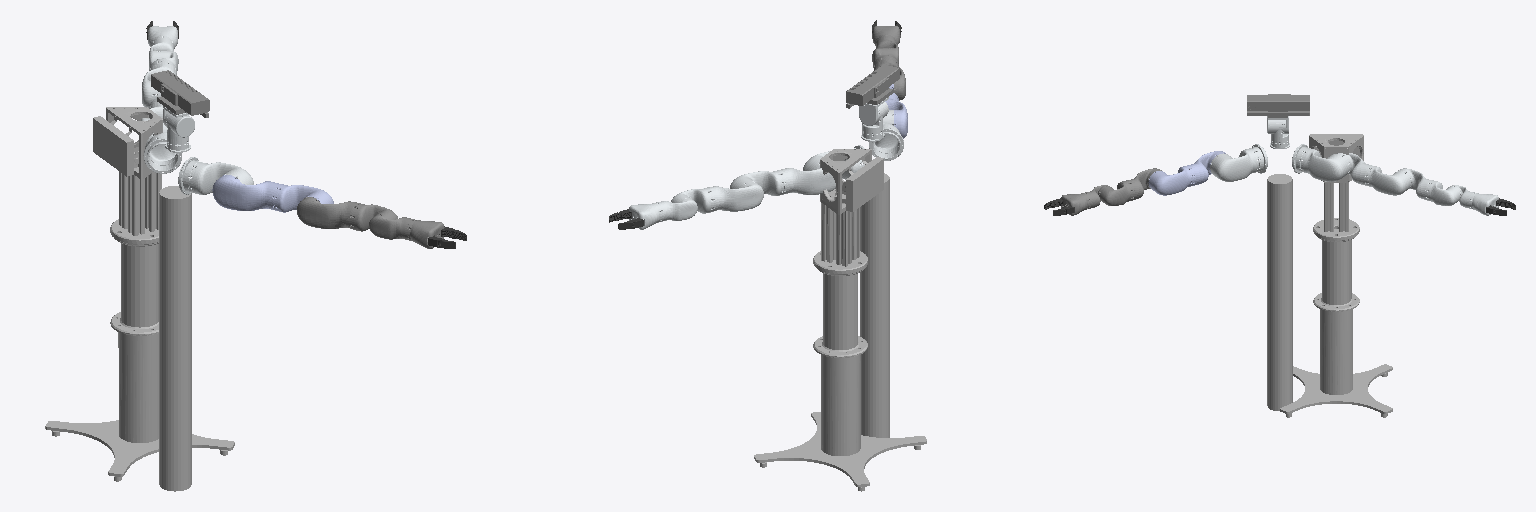
--- Render facts (derived) ---
The picture shows the robot from 3 angles, left to right: view 1: azimuth 30°, elevation 25°; view 2: azimuth 150°, elevation 25°; view 3: azimuth 270°, elevation 25°; orthographic projection.
Robot: mrp2a — 28 links, 27 joints (20 revolute, 7 fixed); root link base_dummy; default pose: every joint at zero.
Visible links, largest first — view 1: base_link, base_dummy, R_Link2, Camera_Link, R_Link4, R_Link1, R_Link3, R_Link6, H_Link1, R_Link5, R_Link7, L_Link4 (+1 smaller); view 2: base_link, base_dummy, Camera_Link, L_Link2, L_Link4, L_Link3, L_Link6, L_Link5, L_Link7; view 3: base_link, base_dummy, Camera_Link, L_Link1, R_Link1, R_Link3, L_Link3, L_Link5, R_Link5, R_Link2.
Boxes of the visible links, box(x1,y1,x2,y2) form: base_link: box(45, 107, 234, 481); base_dummy: box(159, 186, 191, 491); R_Link2: box(212, 175, 283, 210); Camera_Link: box(151, 70, 209, 117); R_Link4: box(297, 197, 360, 229); R_Link1: box(189, 162, 253, 194); R_Link3: box(274, 185, 333, 212); R_Link6: box(369, 214, 414, 240); H_Link1: box(166, 114, 194, 144); R_Link5: box(352, 204, 397, 231); R_Link7: box(408, 220, 444, 248); L_Link4: box(142, 61, 176, 107); base_link: box(754, 149, 926, 491); base_dummy: box(860, 173, 889, 437); Camera_Link: box(846, 64, 899, 108); L_Link2: box(777, 164, 836, 194); L_Link4: box(707, 182, 763, 212); L_Link3: box(730, 171, 783, 195); L_Link6: box(656, 198, 697, 221); L_Link5: box(671, 188, 713, 213); L_Link7: box(629, 203, 661, 229); base_link: box(1280, 134, 1392, 417); base_dummy: box(1267, 174, 1292, 410); Camera_Link: box(1247, 94, 1309, 117); L_Link1: box(1301, 148, 1349, 181); R_Link1: box(1210, 148, 1258, 181); R_Link3: box(1148, 166, 1192, 195); L_Link3: box(1367, 166, 1410, 195); L_Link5: box(1427, 180, 1460, 205); R_Link5: box(1099, 180, 1132, 205); R_Link2: box(1187, 151, 1225, 185).
Size in the robot's own frame: 0.7408 by 1.88 by 1.36 metres.
Meshes: 25 distinct files referenced, 25 mesh visuals loaded (25 binary STL).

URDF robot description (mrp2a):
<robot
  name="mrp2a">
  <link 
    name="base_dummy">
    <visual>
      <origin
        xyz="0.4 0 0.8"
        rpy="0 0 0" />
      <geometry>
        <cylinder length="1" radius="0.05" />
      </geometry>
      <material
        name="">
        <color
          rgba="0.752941176470588 0.752941176470588 0.752941176470588 1" />
      </material>
    </visual>
    <collision>
      <origin
        xyz="0.4 0 0.8"
        rpy="0 0 0" />
      <geometry>
          <cylinder length="1" radius="0.08" />
      </geometry>
    </collision>
  </link>

  <joint
    name="dummy_fixed"
    type="fixed">
    <origin
      xyz="0 0 0"
      rpy="0 0 0" />
    <parent
      link="base_dummy" />
    <child
      link="base_link" />
    <axis
      xyz="0 0 0" />
  </joint>

  <link
    name="base_link">
    <inertial>
      <origin
        xyz="0.0116056401155761 7.62263465240557E-06 0.417492200672716"
        rpy="0 0 0" />
      <mass
        value="503.167445829256" />
      <inertia
        ixx="39.5687611689678"
        ixy="-0.00180154710849991"
        ixz="-3.1866125593707"
        iyy="92.0490260945021"
        iyz="-0.000604913937372381"
        izz="76.9358059123522" />
    </inertial>
    <visual>
      <origin
        xyz="0 0 0"
        rpy="0 0 0" />
      <geometry>
        <mesh
          filename="package://mrp2a_description/meshes/base_link.STL" />
      </geometry>
      <material
        name="">
        <color
          rgba="0.752941176470588 0.752941176470588 0.752941176470588 1" />
      </material>
    </visual>
    <collision>
      <origin
        xyz="0 0 0"
        rpy="0 0 0" />
      <geometry>
        <mesh
          filename="package://mrp2a_description/meshes/base_link.STL" />
      </geometry>
    </collision>
  </link>
  <link
    name="L_Link0">
    <inertial>
      <origin
        xyz="-5.00532948422006E-11 -2.57285631688475E-09 0.00789253736797313"
        rpy="0 0 0" />
      <mass
        value="0.223472954734355" />
      <inertia
        ixx="0.000300898395929938"
        ixy="3.61000742934634E-12"
        ixz="6.57618311567675E-12"
        iyy="0.000300898393145345"
        iyz="5.92615943839112E-12"
        izz="0.000558427149998242" />
    </inertial>
    <visual>
      <origin
        xyz="0 0 0"
        rpy="0 0 0" />
      <geometry>
        <mesh
          filename="package://mrp2a_description/meshes/L_Link0.STL" />
      </geometry>
      <material
        name="">
        <color
          rgba="0.898039215686275 0.917647058823529 0.929411764705882 1" />
      </material>
    </visual>
    <collision>
      <origin
        xyz="0 0 0"
        rpy="0 0 0" />
      <geometry>
        <mesh
          filename="package://mrp2a_description/meshes/L_Link0.STL" />
      </geometry>
    </collision>
  </link>
  <joint
    name="L_fixed"
    type="fixed">
    <origin
      xyz="0.401541651245978 0.0802868417743912 1.39027148358762"
      rpy="1.0471975511966 1.5707963267949 2.0943951023931954923084289221863" />
    <parent
      link="base_link" />
    <child
      link="L_Link0" />
    <axis
      xyz="0 0 0" />
  </joint>
  <link
    name="L_Link1">
    <inertial>
      <origin
        xyz="-5.61077310687885E-05 -0.0142951350447805 0.0860645138410713"
        rpy="0 0 0" />
      <mass
        value="0.479797701810757" />
      <inertia
        ixx="0.00187210715339315"
        ixy="8.48856757722259E-08"
        ixz="7.55666114448996E-07"
        iyy="0.00195379452614282"
        iyz="0.000126977076625014"
        izz="0.000895037663038882" />
    </inertial>
    <visual>
      <origin
        xyz="0 0 0"
        rpy="0 0 0" />
      <geometry>
        <mesh
          filename="package://mrp2a_description/meshes/L_Link1.STL" />
      </geometry>
      <material
        name="">
        <color
          rgba="0.898039215686275 0.917647058823529 0.929411764705882 1" />
      </material>
    </visual>
    <collision>
      <origin
        xyz="0 0 0"
        rpy="0 0 0" />
      <geometry>
        <mesh
          filename="package://mrp2a_description/meshes/L_Link1.STL" />
      </geometry>
    </collision>
  </link>
  <joint
    name="L_Joint1"
    type="revolute">
    <origin
      xyz="0 0 0.0306"
      rpy="-1.7271E-28 1.5777E-30 3.1554E-30" />
    <parent
      link="L_Link0" />
    <child
      link="L_Link1" />
    <axis
      xyz="0 0 1" />
    <limit
      lower="-3.05"
      upper="3.05"
      effort="0"
      velocity="0" />
  </joint>
  <link
    name="L_Link2">
    <inertial>
      <origin
        xyz="-4.22647804732001E-06 -0.0686708494012157 0.0295427733613017"
        rpy="0 0 0" />
      <mass
        value="0.446126751687594" />
      <inertia
        ixx="0.0021734105386687"
        ixy="2.61059381798853E-07"
        ixz="1.55145893440584E-07"
        iyy="0.000851447231000872"
        iyz="-0.000558302793053726"
        izz="0.00206962716215443" />
    </inertial>
    <visual>
      <origin
        xyz="0 0 0"
        rpy="0 0 0" />
      <geometry>
        <mesh
          filename="package://mrp2a_description/meshes/L_Link2.STL" />
      </geometry>
      <material
        name="">
        <color
          rgba="0.898039215686275 0.917647058823529 0.929411764705882 1" />
      </material>
    </visual>
    <collision>
      <origin
        xyz="0 0 0"
        rpy="0 0 0" />
      <geometry>
        <mesh
          filename="package://mrp2a_description/meshes/L_Link2.STL" />
      </geometry>
    </collision>
  </link>
  <joint
    name="L_Joint2"
    type="revolute">
    <origin
      xyz="0 0 0.1339"
      rpy="-1.5708 -6.8784E-15 -1.1914E-14" />
    <parent
      link="L_Link1" />
    <child
      link="L_Link2" />
    <axis
      xyz="0 0 1" />
    <limit
      lower="-2.09"
      upper="2.09"
      effort="0"
      velocity="0" />
  </joint>
  <link
    name="L_Link3">
    <inertial>
      <origin
        xyz="-1.75115454241759E-05 -0.0148352799501194 0.082413004478926"
        rpy="0 0 0" />
      <mass
        value="0.369753275800124" />
      <inertia
        ixx="0.00123779807162089"
        ixy="1.74416777990343E-07"
        ixz="4.028833173977E-07"
        iyy="0.00125673245406666"
        iyz="6.76623645400115E-05"
        izz="0.000517699412118933" />
    </inertial>
    <visual>
      <origin
        xyz="0 0 0"
        rpy="0 0 0" />
      <geometry>
        <mesh
          filename="package://mrp2a_description/meshes/L_Link3.STL" />
      </geometry>
      <material
        name="">
        <color
          rgba="0.898039215686275 0.917647058823529 0.929411764705882 1" />
      </material>
    </visual>
    <collision>
      <origin
        xyz="0 0 0"
        rpy="0 0 0" />
      <geometry>
        <mesh
          filename="package://mrp2a_description/meshes/L_Link3.STL" />
      </geometry>
    </collision>
  </link>
  <joint
    name="L_Joint3"
    type="revolute">
    <origin
      xyz="0 -0.1659 0"
      rpy="1.5708 -1.3171E-14 7.6043E-15" />
    <parent
      link="L_Link2" />
    <child
      link="L_Link3" />
    <axis
      xyz="0 0 1" />
    <limit
      lower="-3.05"
      upper="3.05"
      effort="0"
      velocity="0" />
  </joint>
  <link
    name="L_Link4">
    <inertial>
      <origin
        xyz="-4.19589093851869E-05 -0.0676706530569938 0.0261728375420073"
        rpy="0 0 0" />
      <mass
        value="0.299022063834013" />
      <inertia
        ixx="0.0012651326585819"
        ixy="6.76171354607222E-07"
        ixz="1.79150192674022E-07"
        iyy="0.000483979249770282"
        iyz="-0.00032793976986134"
        izz="0.00121028828173017" />
    </inertial>
    <visual>
      <origin
        xyz="0 0 0"
        rpy="0 0 0" />
      <geometry>
        <mesh
          filename="package://mrp2a_description/meshes/L_Link4.STL" />
      </geometry>
      <material
        name="">
        <color
          rgba="0.898039215686275 0.917647058823529 0.929411764705882 1" />
      </material>
    </visual>
    <collision>
      <origin
        xyz="0 0 0"
        rpy="0 0 0" />
      <geometry>
        <mesh
          filename="package://mrp2a_description/meshes/L_Link4.STL" />
      </geometry>
    </collision>
  </link>
  <joint
    name="L_Joint4"
    type="revolute">
    <origin
      xyz="0 0 0.1261"
      rpy="-1.5708 -7.9726E-15 -1.3809E-14" />
    <parent
      link="L_Link3" />
    <child
      link="L_Link4" />
    <axis
      xyz="0 0 1" />
    <limit
      lower="-2.09"
      upper="2.09"
      effort="0"
      velocity="0" />
  </joint>
  <link
    name="L_Link5">
    <inertial>
      <origin
        xyz="-2.79984826012658E-05 -0.0111127966196358 0.0529842469650915"
        rpy="0 0 0" />
      <mass
        value="0.210105102195468" />
      <inertia
        ixx="0.000430632583535674"
        ixy="-1.37633239033165E-07"
        ixz="-9.75907473549485E-08"
        iyy="0.000426925124477024"
        iyz="5.35966809682189E-05"
        izz="0.000253639705799832" />
    </inertial>
    <visual>
      <origin
        xyz="0 0 0"
        rpy="0 0 0" />
      <geometry>
        <mesh
          filename="package://mrp2a_description/meshes/L_Link5.STL" />
      </geometry>
      <material
        name="">
        <color
          rgba="0.898039215686275 0.917647058823529 0.929411764705882 1" />
      </material>
    </visual>
    <collision>
      <origin
        xyz="0 0 0"
        rpy="0 0 0" />
      <geometry>
        <mesh
          filename="package://mrp2a_description/meshes/L_Link5.STL" />
      </geometry>
    </collision>
  </link>
  <joint
    name="L_Joint5"
    type="revolute">
    <origin
      xyz="0 -0.1509 0"
      rpy="1.5708 -1.2856E-14 7.4225E-15" />
    <parent
      link="L_Link4" />
    <child
      link="L_Link5" />
    <axis
      xyz="0 0 1" />
    <limit
      lower="-3.05"
      upper="3.05"
      effort="0"
      velocity="0" />
  </joint>
  <link
    name="L_Link6">
    <inertial>
      <origin
        xyz="6.61440654838863E-05 -0.0464092033770266 0.0142998926979978"
        rpy="0 0 0" />
      <mass
        value="0.152365938496062" />
      <inertia
        ixx="0.000333790388227261"
        ixy="3.85008350227527E-07"
        ixz="2.41753193395084E-07"
        iyy="0.000148214197619039"
        iyz="-7.54134369610282E-05"
        izz="0.000326788645546282" />
    </inertial>
    <visual>
      <origin
        xyz="0 0 0"
        rpy="0 0 0" />
      <geometry>
        <mesh
          filename="package://mrp2a_description/meshes/L_Link6.STL" />
      </geometry>
      <material
        name="">
        <color
          rgba="0.898039215686275 0.917647058823529 0.929411764705882 1" />
      </material>
    </visual>
    <collision>
      <origin
        xyz="0 0 0"
        rpy="0 0 0" />
      <geometry>
        <mesh
          filename="package://mrp2a_description/meshes/L_Link6.STL" />
      </geometry>
    </collision>
  </link>
  <joint
    name="L_Joint6"
    type="revolute">
    <origin
      xyz="0 0 0.0911"
      rpy="-1.5708 -7.2318E-15 -1.2526E-14" />
    <parent
      link="L_Link5" />
    <child
      link="L_Link6" />
    <axis
      xyz="0 0 1" />
    <limit
      lower="-2.09"
      upper="2.09"
      effort="0"
      velocity="0" />
  </joint>
  <link
    name="L_Link7">
    <inertial>
      <origin
        xyz="-3.35699649318677E-05 -2.8130055156339E-06 0.0435230606728521"
        rpy="0 0 0" />
      <mass
        value="0.189866448136334" />
      <inertia
        ixx="0.000273665673510358"
        ixy="2.19757511429631E-08"
        ixz="4.14753854628336E-08"
        iyy="0.000241558936433134"
        iyz="1.55856396916136E-08"
        izz="0.000241433839895286" />
    </inertial>
    <visual>
      <origin
        xyz="0 0 0"
        rpy="0 0 0" />
      <geometry>
        <mesh
          filename="package://mrp2a_description/meshes/L_Link7.STL" />
      </geometry>
      <material
        name="">
        <color
          rgba="0.898039215686275 0.917647058823529 0.929411764705882 1" />
      </material>
    </visual>
    <collision>
      <origin
        xyz="0 0 0"
        rpy="0 0 0" />
      <geometry>
        <mesh
          filename="package://mrp2a_description/meshes/L_Link7.STL" />
      </geometry>
    </collision>
  </link>
  <joint
    name="L_Joint7"
    type="revolute">
    <origin
      xyz="0 -0.1069 0"
      rpy="1.5708 -1.2729E-14 7.3492E-15" />
    <parent
      link="L_Link6" />
    <child
      link="L_Link7" />
    <axis
      xyz="0 0 1" />
    <limit
      lower="-3.05"
      upper="3.05"
      effort="0"
      velocity="0" />
  </joint>
  <link
    name="L_left_finger">
    <inertial>
      <origin
        xyz="0.0344260864003008 0.010909869016838 1.2293463802493E-08"
        rpy="0 0 0" />
      <mass
        value="0.0476700444491017" />
      <inertia
        ixx="5.21235147485969E-06"
        ixy="1.63723669343646E-07"
        ixz="1.90271401200849E-11"
        iyy="3.02971293146477E-05"
        iyz="-6.15604627115701E-12"
        izz="2.85611105712804E-05" />
    </inertial>
    <visual>
      <origin
        xyz="0 0 0"
        rpy="0 0 0" />
      <geometry>
        <mesh
          filename="package://mrp2a_description/meshes/L_left_finger.STL" />
      </geometry>
      <material
        name="">
        <color
          rgba="0.298039215686275 0.298039215686275 0.298039215686275 1" />
      </material>
    </visual>
    <collision>
      <origin
        xyz="0 0 0"
        rpy="0 0 0" />
      <geometry>
        <mesh
          filename="package://mrp2a_description/meshes/L_left_finger.STL" />
      </geometry>
    </collision>
  </link>
  <joint
    name="L_left_joint"
    type="revolute">
    <origin
      xyz="0 0.028 0.0806"
      rpy="-1.5708 -1.5653 1.5708" />
    <parent
      link="L_Link7" />
    <child
      link="L_left_finger" />
    <axis
      xyz="0 0 1" />
    <limit
      lower="-1.57"
      upper="1.57"
      effort="0"
      velocity="0" />
  </joint>
  <link
    name="L_right_finger">
    <inertial>
      <origin
        xyz="0.0343738108391702 -0.0114248408797415 -1.15433491654215E-08"
        rpy="0 0 0" />
      <mass
        value="0.0476700572031979" />
      <inertia
        ixx="5.1384484209657E-06"
        ixy="6.56366148953293E-07"
        ixz="-2.5753435705972E-11"
        iyy="3.02664921090384E-05"
        iyz="-5.71395212742962E-12"
        izz="2.84565694707725E-05" />
    </inertial>
    <visual>
      <origin
        xyz="0 0 0"
        rpy="0 0 0" />
      <geometry>
        <mesh
          filename="package://mrp2a_description/meshes/L_right_finger.STL" />
      </geometry>
      <material
        name="">
        <color
          rgba="0.298039215686275 0.298039215686275 0.298039215686275 1" />
      </material>
    </visual>
    <collision>
      <origin
        xyz="0 0 0"
        rpy="0 0 0" />
      <geometry>
        <mesh
          filename="package://mrp2a_description/meshes/L_right_finger.STL" />
      </geometry>
    </collision>
  </link>
  <joint
    name="L_right_joint"
    type="revolute">
    <origin
      xyz="0 -0.028 0.0806"
      rpy="-1.5708 -1.5599 1.5708" />
    <parent
      link="L_Link7" />
    <child
      link="L_right_finger" />
    <axis
      xyz="0 0 1" />
    <limit
      lower="-1.57"
      upper="1.57"
      effort="0"
      velocity="0" />
  </joint>
  <link
    name="L_ee" />
  <joint
    name="L_end_fixed"
    type="fixed">
    <origin
      xyz="0 0 0.165"
      rpy="-1.82997712798868E-28 0 -3.15544362088405E-30" />
    <parent
      link="L_Link7" />
    <child
      link="L_ee" />
    <axis
      xyz="0 0 0" />
  </joint>
  <link
    name="R_Link0">
    <inertial>
      <origin
        xyz="-5.00535168868055E-11 -2.57285659444051E-09 0.00789253736797302"
        rpy="0 0 0" />
      <mass
        value="0.223472954734356" />
      <inertia
        ixx="0.000300898395929939"
        ixy="3.6100072822455E-12"
        ixz="6.57618405467455E-12"
        iyy="0.000300898393145346"
        iyz="5.9261598856246E-12"
        izz="0.000558427149998244" />
    </inertial>
    <visual>
      <origin
        xyz="0 0 0"
        rpy="0 0 0" />
      <geometry>
        <mesh
          filename="package://mrp2a_description/meshes/R_Link0.STL" />
      </geometry>
      <material
        name="">
        <color
          rgba="0.898039215686275 0.917647058823529 0.929411764705882 1" />
      </material>
    </visual>
    <collision>
      <origin
        xyz="0 0 0"
        rpy="0 0 0" />
      <geometry>
        <mesh
          filename="package://mrp2a_description/meshes/R_Link0.STL" />
      </geometry>
    </collision>
  </link>
  <joint
    name="R_fixed"
    type="fixed">
    <origin
      xyz="0.40154 -0.080287 1.3903"
      rpy="1.0472 -1.5708 1.0471975511965977461542144610932" />
    <parent
      link="base_link" />
    <child
      link="R_Link0" />
    <axis
      xyz="0 0 0" />
  </joint>
  <link
    name="R_Link1">
    <inertial>
      <origin
        xyz="-5.61072148668185E-05 -0.0142951353992923 0.0861636477119259"
        rpy="0 0 0" />
      <mass
        value="0.479797742374358" />
      <inertia
        ixx="0.00187210719283673"
        ixy="8.49019868743665E-08"
        ixz="7.55626229620109E-07"
        iyy="0.00195379460117118"
        iyz="0.000126977101176485"
        izz="0.000895037720805486" />
    </inertial>
    <visual>
      <origin
        xyz="0 0 0"
        rpy="0 0 0" />
      <geometry>
        <mesh
          filename="package://mrp2a_description/meshes/R_Link1.STL" />
      </geometry>
      <material
        name="">
        <color
          rgba="0.898039215686275 0.917647058823529 0.929411764705882 1" />
      </material>
    </visual>
    <collision>
      <origin
        xyz="0 0 0"
        rpy="0 0 0" />
      <geometry>
        <mesh
          filename="package://mrp2a_description/meshes/R_Link1.STL" />
      </geometry>
    </collision>
  </link>
  <joint
    name="R_Joint1"
    type="revolute">
    <origin
      xyz="0 0 0.030501"
      rpy="-7.3566E-28 -3.1554E-30 3.9782E-14" />
    <parent
      link="R_Link0" />
    <child
      link="R_Link1" />
    <axis
      xyz="0 0 1" />
    <limit
      lower="-3.05"
      upper="3.05"
      effort="0"
      velocity="0" />
  </joint>
  <link
    name="R_Link2">
    <inertial>
      <origin
        xyz="-4.23559618156766E-06 -0.0686708524722193 0.0295427694562012"
        rpy="0 0 0" />
      <mass
        value="0.446126638336131" />
      <inertia
        ixx="0.00217341040951626"
        ixy="2.61085934763301E-07"
        ixz="1.55189970462644E-07"
        iyy="0.00085144701302756"
        iyz="-0.000558302708861282"
        izz="0.00206962697259797" />
    </inertial>
    <visual>
      <origin
        xyz="0 0 0"
        rpy="0 0 0" />
      <geometry>
        <mesh
          filename="package://mrp2a_description/meshes/R_Link2.STL" />
      </geometry>
      <material
        name="">
        <color
          rgba="0.792156862745098 0.819607843137255 0.933333333333333 1" />
      </material>
    </visual>
    <collision>
      <origin
        xyz="0 0 0"
        rpy="0 0 0" />
      <geometry>
        <mesh
          filename="package://mrp2a_description/meshes/R_Link2.STL" />
      </geometry>
    </collision>
  </link>
  <joint
    name="R_Joint2"
    type="revolute">
    <origin
      xyz="0 0 0.134"
      rpy="-1.5708 -2.2968E-14 -3.9782E-14" />
    <parent
      link="R_Link1" />
    <child
      link="R_Link2" />
    <axis
      xyz="0 0 1" />
    <limit
      lower="-2.09"
      upper="2.09"
      effort="0"
      velocity="0" />
  </joint>
  <link
    name="R_Link3">
    <inertial>
      <origin
        xyz="-1.74956927427861E-05 -0.0148360675202772 0.0824136347131282"
        rpy="0 0 0" />
      <mass
        value="0.369749907628908" />
      <inertia
        ixx="0.00123777240608711"
        ixy="1.77510255388424E-07"
        ixz="4.01191203097331E-07"
        iyy="0.00125672179257768"
        iyz="6.76484823504997E-05"
        izz="0.000517689455158085" />
    </inertial>
    <visual>
      <origin
        xyz="0 0 0"
        rpy="0 0 0" />
      <geometry>
        <mesh
          filename="package://mrp2a_description/meshes/R_Link3.STL" />
      </geometry>
      <material
        name="">
        <color
          rgba="0.792156862745098 0.819607843137255 0.933333333333333 1" />
      </material>
    </visual>
    <collision>
      <origin
        xyz="0 0 0"
        rpy="0 0 0" />
      <geometry>
        <mesh
          filename="package://mrp2a_description/meshes/R_Link3.STL" />
      </geometry>
    </collision>
  </link>
  <joint
    name="R_Joint3"
    type="revolute">
    <origin
      xyz="0 -0.1659 0"
      rpy="1.5708 0 2.2787E-14" />
    <parent
      link="R_Link2" />
    <child
      link="R_Link3" />
    <axis
      xyz="0 0 1" />
    <limit
      lower="-3.05"
      upper="3.05"
      effort="0"
      velocity="0" />
  </joint>
  <link
    name="R_Link4">
    <inertial>
      <origin
        xyz="-4.03927185324005E-05 -0.0676666958651468 0.026172576483824"
        rpy="0 0 0" />
      <mass
        value="0.298987763986855" />
      <inertia
        ixx="0.00126508843566398"
        ixy="6.95308562925535E-07"
        ixz="1.79322052937203E-07"
        iyy="0.000483969302599261"
        iyz="-0.000327943370852257"
        izz="0.00121023700357796" />
    </inertial>
    <visual>
      <origin
        xyz="0 0 0"
        rpy="0 0 0" />
      <geometry>
        <mesh
          filename="package://mrp2a_description/meshes/R_Link4.STL" />
      </geometry>
      <material
        name="">
        <color
          rgba="0.6 0.6 0.6 1" />
      </material>
    </visual>
    <collision>
      <origin
        xyz="0 0 0"
        rpy="0 0 0" />
      <geometry>
        <mesh
          filename="package://mrp2a_description/meshes/R_Link4.STL" />
      </geometry>
    </collision>
  </link>
  <joint
    name="R_Joint4"
    type="revolute">
    <origin
      xyz="0 0 0.1261"
      rpy="-1.5708 -2.2739E-14 8.2815E-17" />
    <parent
      link="R_Link3" />
    <child
      link="R_Link4" />
    <axis
      xyz="0 0 1" />
    <limit
      lower="-2.09"
      upper="2.09"
      effort="0"
      velocity="0" />
  </joint>
  <link
    name="R_Link5">
    <inertial>
      <origin
        xyz="-2.80211401295638E-05 -0.0111127907440283 0.05298419196174"
        rpy="0 0 0" />
      <mass
        value="0.210105699117219" />
      <inertia
        ixx="0.000430632859994774"
        ixy="-1.37813721268546E-07"
        ixz="-9.75407365432049E-08"
        iyy="0.000426925932400006"
        iyz="5.35967160781164E-05"
        izz="0.000253640383214066" />
    </inertial>
    <visual>
      <origin
        xyz="0 0 0"
        rpy="0 0 0" />
      <geometry>
        <mesh
          filename="package://mrp2a_description/meshes/R_Link5.STL" />
      </geometry>
      <material
        name="">
        <color
          rgba="0.6 0.6 0.6 1" />
      </material>
    </visual>
    <collision>
      <origin
        xyz="0 0 0"
        rpy="0 0 0" />
      <geometry>
        <mesh
          filename="package://mrp2a_description/meshes/R_Link5.STL" />
      </geometry>
    </collision>
  </link>
  <joint
    name="R_Joint5"
    type="revolute">
    <origin
      xyz="0 -0.1509 0"
      rpy="1.5708 7.8886E-31 2.2312E-14" />
    <parent
      link="R_Link4" />
    <child
      link="R_Link5" />
    <axis
      xyz="0 0 1" />
    <limit
      lower="-3.05"
      upper="3.05"
      effort="0"
      velocity="0" />
  </joint>
  <link
    name="R_Link6">
    <inertial>
      <origin
        xyz="6.61343351426869E-05 -0.0464091972860603 0.0142999050044847"
        rpy="0 0 0" />
      <mass
        value="0.152366153036449" />
      <inertia
        ixx="0.000333790419008713"
        ixy="3.85019793889823E-07"
        ixz="2.41769601081134E-07"
        iyy="0.000148214222108908"
        iyz="-7.54134467876615E-05"
        izz="0.000326788654436392" />
    </inertial>
    <visual>
      <origin
        xyz="0 0 0"
        rpy="0 0 0" />
      <geometry>
        <mesh
          filename="package://mrp2a_description/meshes/R_Link6.STL" />
      </geometry>
      <material
        name="">
        <color
          rgba="0.6 0.6 0.6 1" />
      </material>
    </visual>
    <collision>
      <origin
        xyz="0 0 0"
        rpy="0 0 0" />
      <geometry>
        <mesh
          filename="package://mrp2a_description/meshes/R_Link6.STL" />
      </geometry>
    </collision>
  </link>
  <joint
    name="R_Joint6"
    type="revolute">
    <origin
      xyz="0 0 0.0911"
      rpy="-1.5708 -2.2606E-14 -5.0854E-16" />
    <parent
      link="R_Link5" />
    <child
      link="R_Link6" />
    <axis
      xyz="0 0 1" />
    <limit
      lower="-2.09"
      upper="2.09"
      effort="0"
      velocity="0" />
  </joint>
  <link
    name="R_Link7">
    <inertial>
      <origin
        xyz="-3.36427732410272E-05 -2.82520635752626E-06 0.0435230300782323"
        rpy="0 0 0" />
      <mass
        value="0.189865036836604" />
      <inertia
        ixx="0.000273664094867029"
        ixy="2.18373863900876E-08"
        ixz="4.1489683406968E-08"
        iyy="0.000241557785608958"
        iyz="1.55686748855343E-08"
        izz="0.00024143314655356" />
    </inertial>
    <visual>
      <origin
        xyz="0 0 0"
        rpy="0 0 0" />
      <geometry>
        <mesh
          filename="package://mrp2a_description/meshes/R_Link7.STL" />
      </geometry>
      <material
        name="">
        <color
          rgba="0.6 0.6 0.6 1" />
      </material>
    </visual>
    <collision>
      <origin
        xyz="0 0 0"
        rpy="0 0 0" />
      <geometry>
        <mesh
          filename="package://mrp2a_description/meshes/R_Link7.STL" />
      </geometry>
    </collision>
  </link>
  <joint
    name="R_Joint7"
    type="revolute">
    <origin
      xyz="0 -0.1069 0"
      rpy="1.5708 -3.9489E-14 2.2799E-14" />
    <parent
      link="R_Link6" />
    <child
      link="R_Link7" />
    <axis
      xyz="0 0 1" />
    <limit
      lower="-3.05"
      upper="3.05"
      effort="0"
      velocity="0" />
  </joint>
  <link
    name="R_left_finger">
    <inertial>
      <origin
        xyz="0.0343738108375109 0.011424840880201 1.15440119685672E-08"
        rpy="0 0 0" />
      <mass
        value="0.0476700572006745" />
      <inertia
        ixx="5.13844842057685E-06"
        ixy="-6.56366149774326E-07"
        ixz="2.5752481464042E-11"
        iyy="3.02664921062085E-05"
        iyz="-5.71380286445829E-12"
        izz="2.84565694679184E-05" />
    </inertial>
    <visual>
      <origin
        xyz="0 0 0"
        rpy="0 0 0" />
      <geometry>
        <mesh
          filename="package://mrp2a_description/meshes/R_left_finger.STL" />
      </geometry>
      <material
        name="">
        <color
          rgba="0.298039215686275 0.298039215686275 0.298039215686275 1" />
      </material>
    </visual>
    <collision>
      <origin
        xyz="0 0 0"
        rpy="0 0 0" />
      <geometry>
        <mesh
          filename="package://mrp2a_description/meshes/R_left_finger.STL" />
      </geometry>
    </collision>
  </link>
  <joint
    name="R_left_joint"
    type="revolute">
    <origin
      xyz="0 -0.028 0.0806"
      rpy="1.5708 -1.5599 1.5708" />
    <parent
      link="R_Link7" />
    <child
      link="R_left_finger" />
    <axis
      xyz="0 0 1" />
    <limit
      lower="-1.57"
      upper="1.57"
      effort="0"
      velocity="0" />
  </joint>
  <link
    name="R_right_finger">
    <inertial>
      <origin
        xyz="0.0344260865252215 -0.0109098689880262 -1.22142709280126E-08"
        rpy="0 0 0" />
      <mass
        value="0.0476700440441413" />
      <inertia
        ixx="5.21235145188848E-06"
        ixy="-1.63723591258123E-07"
        ixz="-1.61905546615493E-11"
        iyy="3.02971293915036E-05"
        iyz="-7.09495578575302E-12"
        izz="2.85611106972999E-05" />
    </inertial>
    <visual>
      <origin
        xyz="0 0 0"
        rpy="0 0 0" />
      <geometry>
        <mesh
          filename="package://mrp2a_description/meshes/R_right_finger.STL" />
      </geometry>
      <material
        name="">
        <color
          rgba="0.298039215686275 0.298039215686275 0.298039215686275 1" />
      </material>
    </visual>
    <collision>
      <origin
        xyz="0 0 0"
        rpy="0 0 0" />
      <geometry>
        <mesh
          filename="package://mrp2a_description/meshes/R_right_finger.STL" />
      </geometry>
    </collision>
  </link>
  <joint
    name="R_right_joint"
    type="revolute">
    <origin
      xyz="0 0.028 0.0806"
      rpy="1.5708 -1.5653 1.5708" />
    <parent
      link="R_Link7" />
    <child
      link="R_right_finger" />
    <axis
      xyz="0 0 1" />
    <limit
      lower="-1.57"
      upper="1.57"
      effort="0"
      velocity="0" />
  </joint>
  <link
    name="R_ee" />
  <joint
    name="R_end_fixed"
    type="fixed">
    <origin
      xyz="0 0 0.165"
      rpy="5.55111512305515E-17 0 6.31088724176809E-30" />
    <parent
      link="R_Link7" />
    <child
      link="R_ee" />
    <axis
      xyz="0 0 0" />
  </joint>
  <link
    name="H_Link0">
    <inertial>
      <origin
        xyz="1.36107769499461E-09 4.290221439617E-09 -0.00639346316465716"
        rpy="0 0 0" />
      <mass
        value="0.0763918845079565" />
      <inertia
        ixx="5.04101958248263E-05"
        ixy="8.4579057067866E-12"
        ixz="-1.49913777901785E-12"
        iyy="4.34000665061847E-05"
        iyz="-1.52482087848403E-12"
        izz="8.69734069790443E-05" />
    </inertial>
    <visual>
      <origin
        xyz="0 0 0"
        rpy="0 0 0" />
      <geometry>
        <mesh
          filename="package://mrp2a_description/meshes/H_Link0.STL" />
      </geometry>
      <material
        name="">
        <color
          rgba="0.898039215686275 0.917647058823529 0.929411764705882 1" />
      </material>
    </visual>
    <collision>
      <origin
        xyz="0 0 0"
        rpy="0 0 0" />
      <geometry>
        <mesh
          filename="package://mrp2a_description/meshes/H_Link0.STL" />
      </geometry>
    </collision>
  </link>
  <joint
    name="H_fixed"
    type="fixed">
    <origin
      xyz="0.409 0 1.4678"
      rpy="0 0 0" />
    <parent
      link="base_link" />
    <child
      link="H_Link0" />
    <axis
      xyz="0 0 0" />
  </joint>
  <link
    name="H_Link1">
    <inertial>
      <origin
        xyz="-4.15541416276533E-08 -0.0142975420780974 0.0567609337626374"
        rpy="0 0 0" />
      <mass
        value="0.28667747136121" />
      <inertia
        ixx="0.000397556799292656"
        ixy="2.20682177930424E-10"
        ixz="1.25895505007179E-11"
        iyy="0.000400782700456569"
        iyz="7.48489344216485E-05"
        izz="0.000304922211379593" />
    </inertial>
    <visual>
      <origin
        xyz="0 0 0"
        rpy="0 0 0" />
      <geometry>
        <mesh
          filename="package://mrp2a_description/meshes/H_Link1.STL" />
      </geometry>
      <material
        name="">
        <color
          rgba="0.898039215686275 0.917647058823529 0.929411764705882 1" />
      </material>
    </visual>
    <collision>
      <origin
        xyz="0 0 0"
        rpy="0 0 0" />
      <geometry>
        <mesh
          filename="package://mrp2a_description/meshes/H_Link1.STL" />
      </geometry>
    </collision>
  </link>
  <joint
    name="H_Joint1"
    type="revolute">
    <origin
      xyz="0 0 0"
      rpy="0 0 0" />
    <parent
      link="H_Link0" />
    <child
      link="H_Link1" />
    <axis
      xyz="0 0 1" />
    <limit
      lower="-3.05"
      upper="3.05"
      effort="0"
      velocity="0" />
  </joint>
  <link
    name="H_Link2">
    <inertial>
      <origin
        xyz="0.00018202111213661 -0.0193059285403403 0.0165439481842882"
        rpy="0 0 0" />
      <mass
        value="0.153627305853781" />
      <inertia
        ixx="0.000173781545127498"
        ixy="2.56924300822088E-07"
        ixz="3.60295130967165E-07"
        iyy="0.000146516684368541"
        iyz="-3.82332929847883E-05"
        izz="0.000174118139124197" />
    </inertial>
    <visual>
      <origin
        xyz="0 0 0"
        rpy="0 0 0" />
      <geometry>
        <mesh
          filename="package://mrp2a_description/meshes/H_Link2.STL" />
      </geometry>
      <material
        name="">
        <color
          rgba="0.898039215686275 0.917647058823529 0.929411764705882 1" />
      </material>
    </visual>
    <collision>
      <origin
        xyz="0 0 0"
        rpy="0 0 0" />
      <geometry>
        <mesh
          filename="package://mrp2a_description/meshes/H_Link2.STL" />
      </geometry>
    </collision>
  </link>
  <joint
    name="H_Joint2"
    type="revolute">
    <origin
      xyz="0 0 0.073"
      rpy="-1.5708 0 1.2152E-14" />
    <parent
      link="H_Link1" />
    <child
      link="H_Link2" />
    <axis
      xyz="0 0 1" />
    <limit
      lower="-1.57"
      upper="1.57"
      effort="0"
      velocity="0" />
  </joint>
  <link
    name="Camera_Link">
    <inertial>
      <origin
        xyz="0.0019019181669051 -0.0068237134368753 0.0509308504895079"
        rpy="0 0 0" />
      <mass
        value="0.953411732634247" />
      <inertia
        ixx="0.00445080229807094"
        ixy="1.20806708592138E-06"
        ixz="-3.00544612815069E-06"
        iyy="0.000764093380363349"
        iyz="-8.19747632936745E-07"
        izz="0.0045157223560275" />
    </inertial>
    <visual>
      <origin
        xyz="0 0 0"
        rpy="0 0 0" />
      <geometry>
        <mesh
          filename="package://mrp2a_description/meshes/Camera_Link.STL" />
      </geometry>
      <material
        name="">
        <color
          rgba="0.6 0.6 0.6 1" />
      </material>
    </visual>
    <collision>
      <origin
        xyz="0 0 0"
        rpy="0 0 0" />
      <geometry>
        <mesh
          filename="package://mrp2a_description/meshes/Camera_Link.STL" />
      </geometry>
    </collision>
  </link>
  <joint
    name="Camera_fixed"
    type="fixed">
    <origin
      xyz="0.000376967585380028 -0.0399982236535521 0"
      rpy="1.57079632679491 1.21517379492177E-14 2.09209165761488E-28" />
    <parent
      link="H_Link2" />
    <child
      link="Camera_Link" />
    <axis
      xyz="0 0 0" />
  </joint>
</robot>
